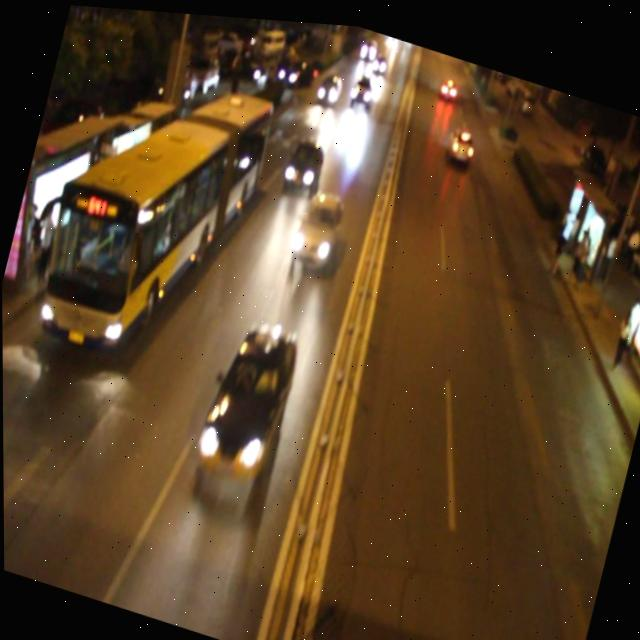car: (192, 305, 305, 482), (289, 178, 349, 271), (279, 127, 328, 196), (443, 112, 479, 161), (313, 64, 345, 109), (348, 67, 376, 104)
van: (25, 33, 271, 377)
